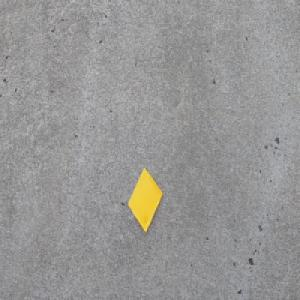PlasticPart: (127, 166, 163, 234)
